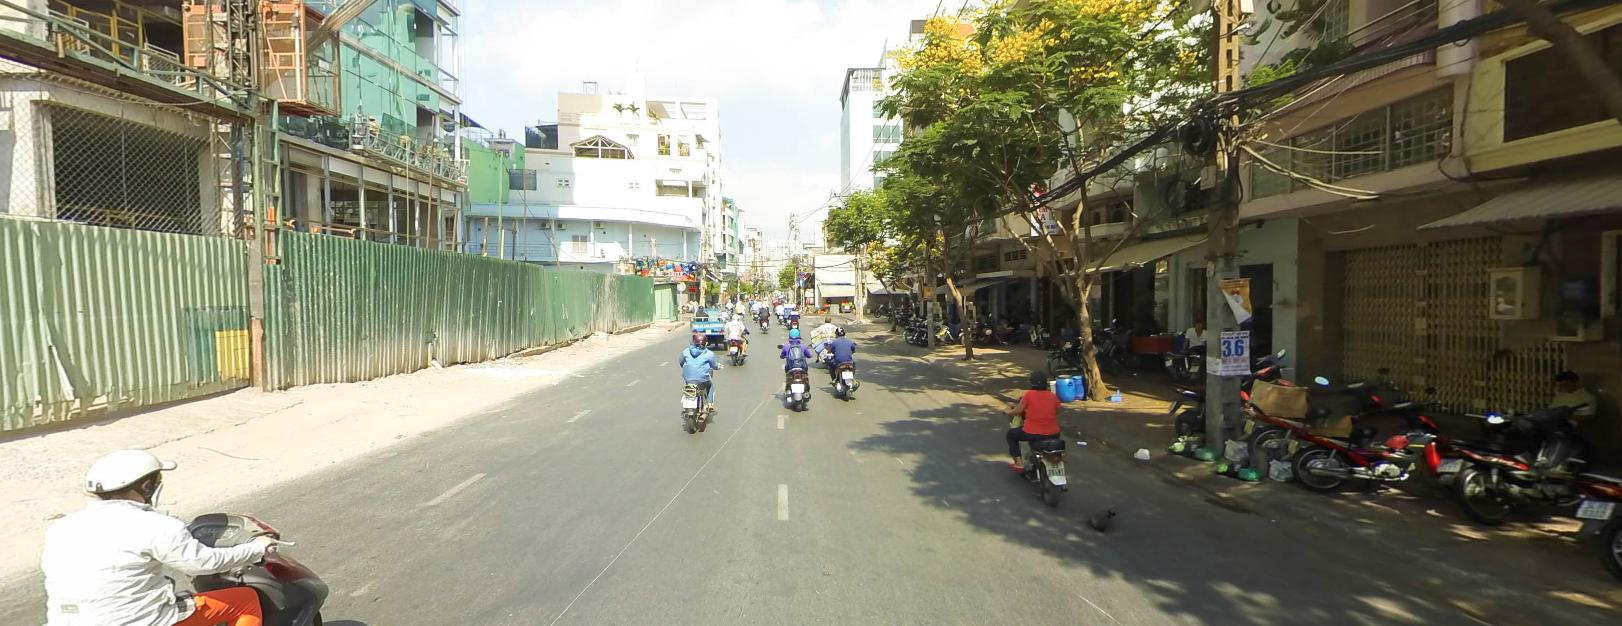Cam dung va do: (797, 269, 805, 276)
